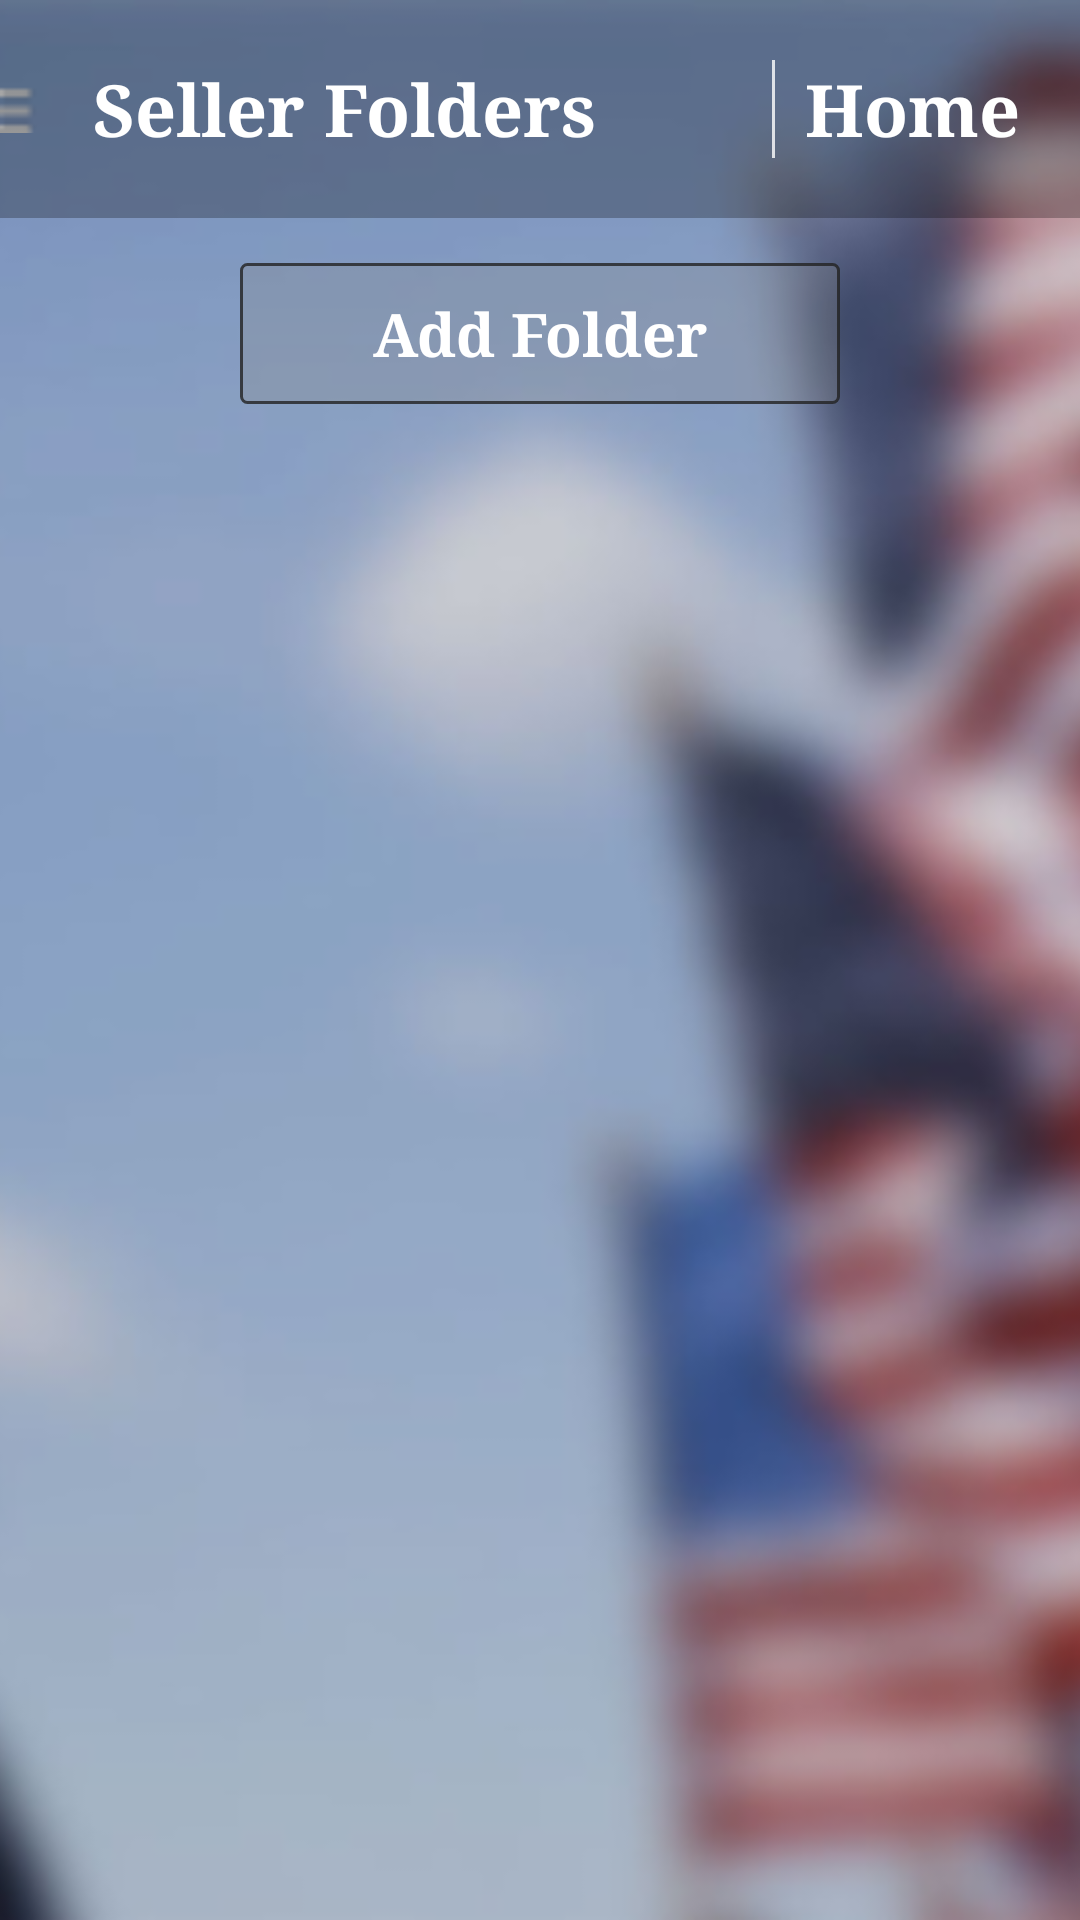

Point at icon controls on the screen. Image size 1080w x 1920h, points as (x=x, y=y).
drawer: (x=15, y=110)
